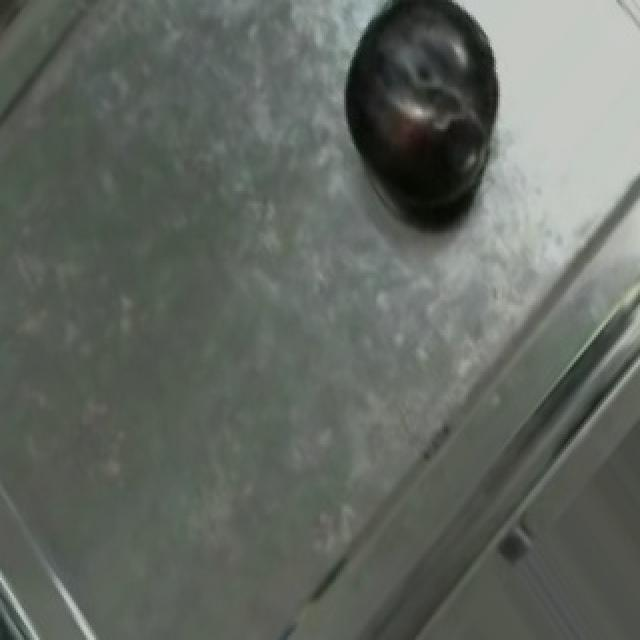Fruit: (320, 10, 508, 236)
